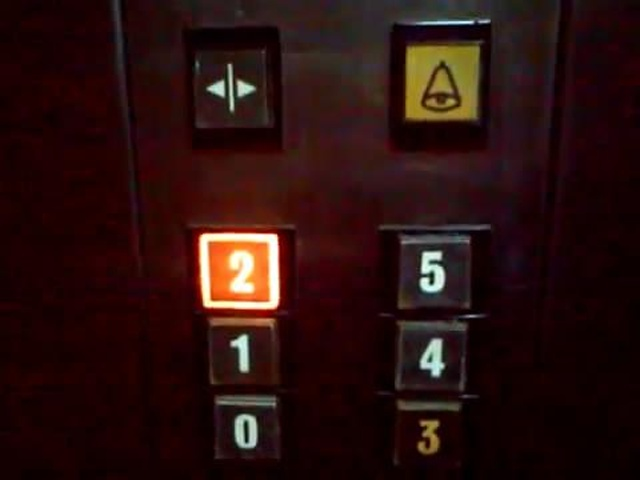0: (197, 387, 295, 468)
1: (193, 314, 298, 390)
2: (186, 223, 296, 317)
3: (379, 391, 478, 479)
4: (379, 313, 484, 396)
5: (376, 224, 490, 317)
alarm: (391, 18, 495, 151)
open: (181, 25, 290, 154)
